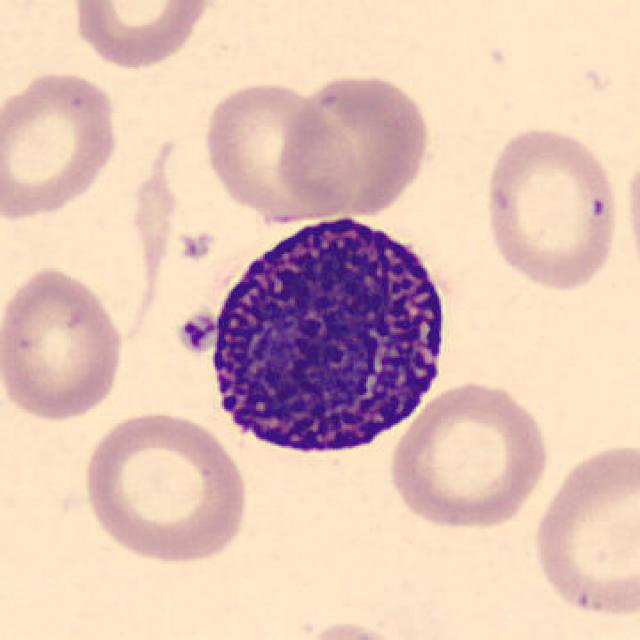Basophil: (197, 201, 459, 467)
Platelets: (174, 309, 220, 356)
RBC: (76, 406, 252, 568), (384, 378, 555, 532), (478, 122, 624, 294), (279, 69, 434, 220), (199, 78, 354, 222), (0, 261, 128, 425), (528, 434, 638, 624), (0, 67, 123, 224), (67, 0, 217, 71), (288, 615, 428, 640), (622, 139, 640, 284)
